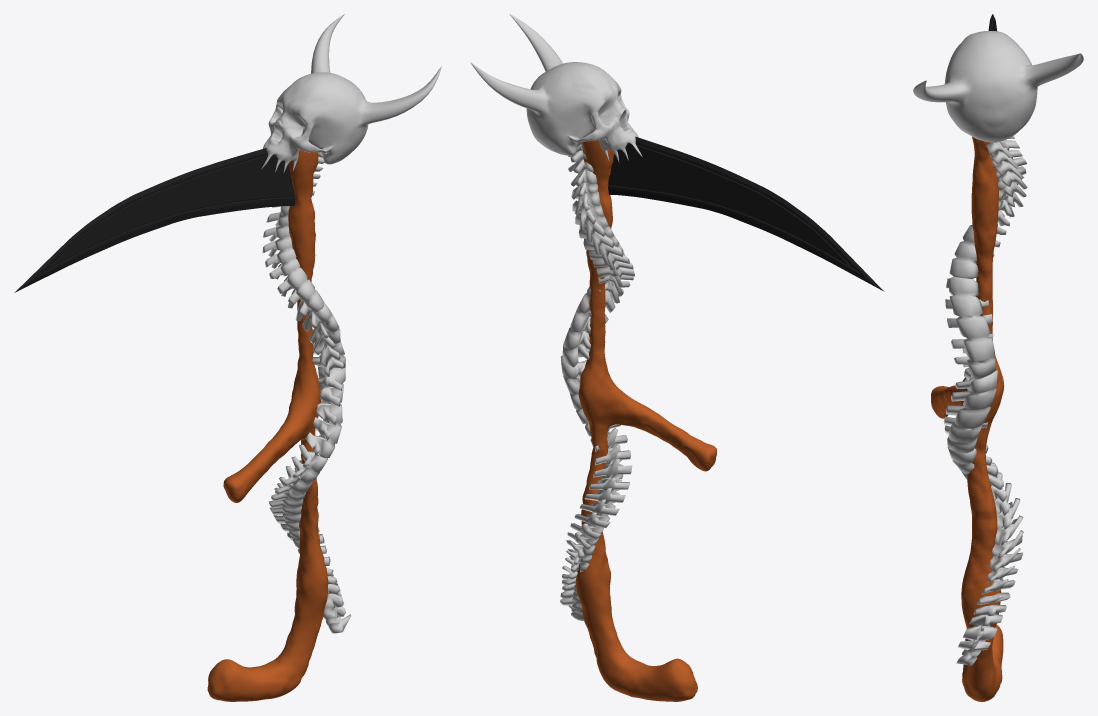
Rendered from espada.FBX.
The picture shows the model from 3 angles, left to right: view 1: azimuth 30°, elevation 25°; view 2: azimuth 150°, elevation 25°; view 3: azimuth 270°, elevation 25°; orthographic projection. The views are drawn at different scales.
Parts seen in each view (by area): view 1: Box01, Box02, Head, Neck01, Neck; view 2: Box01, Box02, Head, Neck, Neck01; view 3: Box01, Head, Neck01, Neck.
Boxes of the visible parts, <box> form: Box01: <box>207,149,328,701</box>; Box02: <box>14,148,295,292</box>; Head: <box>261,14,441,172</box>; Neck01: <box>268,367,351,633</box>; Neck: <box>262,154,345,376</box>; Box01: <box>576,140,716,701</box>; Box02: <box>608,136,884,291</box>; Head: <box>470,14,642,162</box>; Neck: <box>562,143,635,367</box>; Neck01: <box>560,355,632,620</box>; Box01: <box>931,137,1004,701</box>; Head: <box>913,31,1083,142</box>; Neck01: <box>944,368,1023,665</box>; Neck: <box>945,136,1027,379</box>.
Bounding box in the file's own units: 113 × 169 × 36.9.
